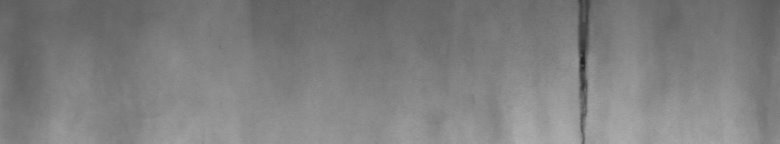hd: (571, 4, 595, 136)
